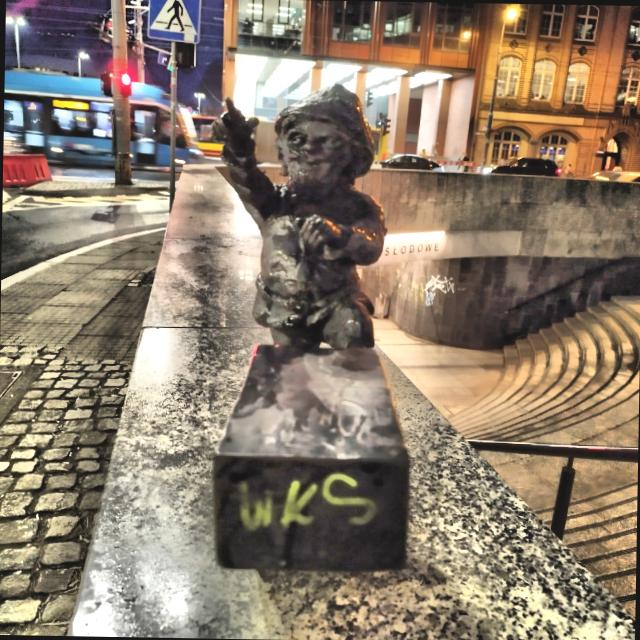Elementek: (214, 85, 408, 570)
